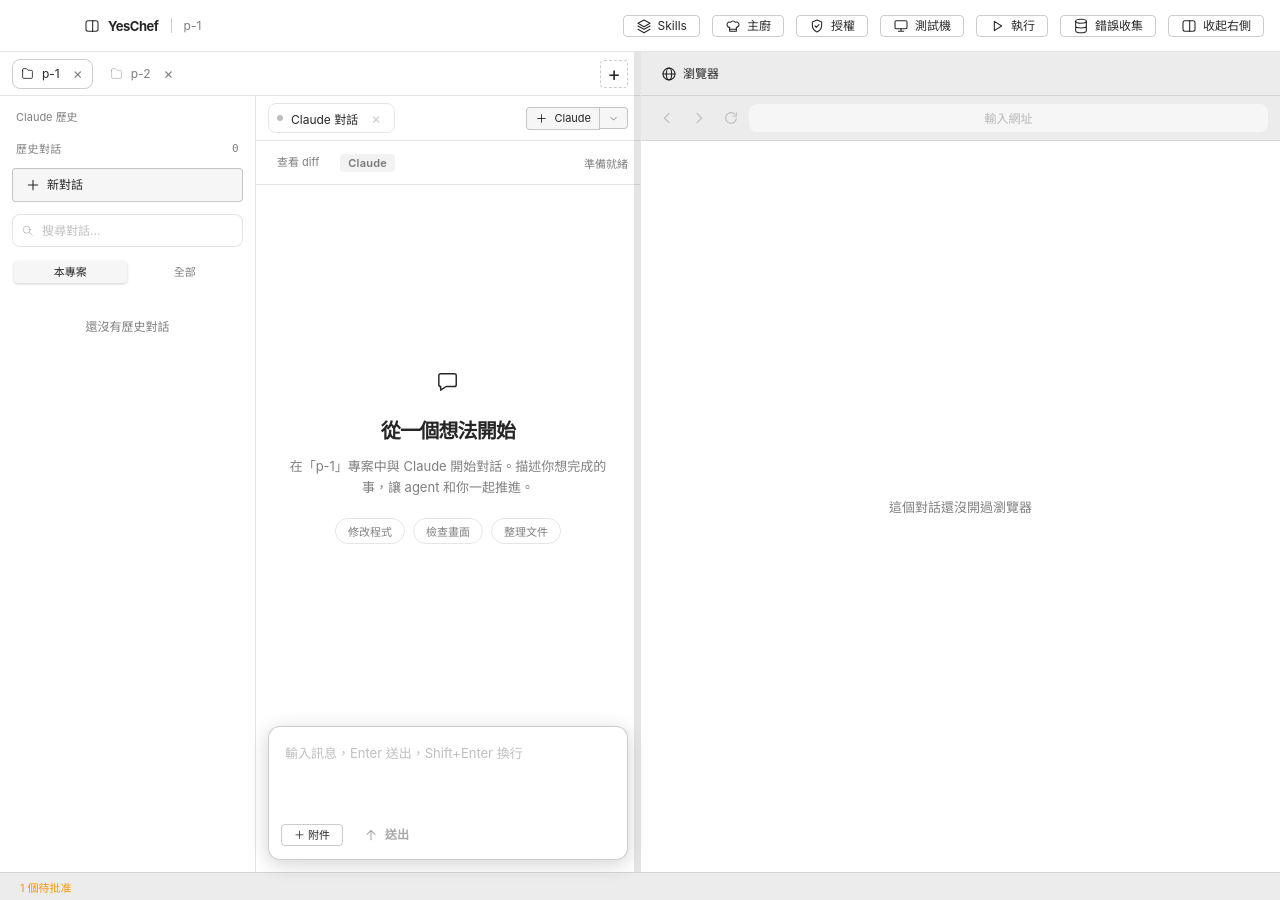
Scenario: App 狀態列 › 點待批准會切到第一個待批准的專案與對話
The image size is (1280, 900).
Click the button "1 個待批准" at [46, 886], box [16, 876, 76, 898]
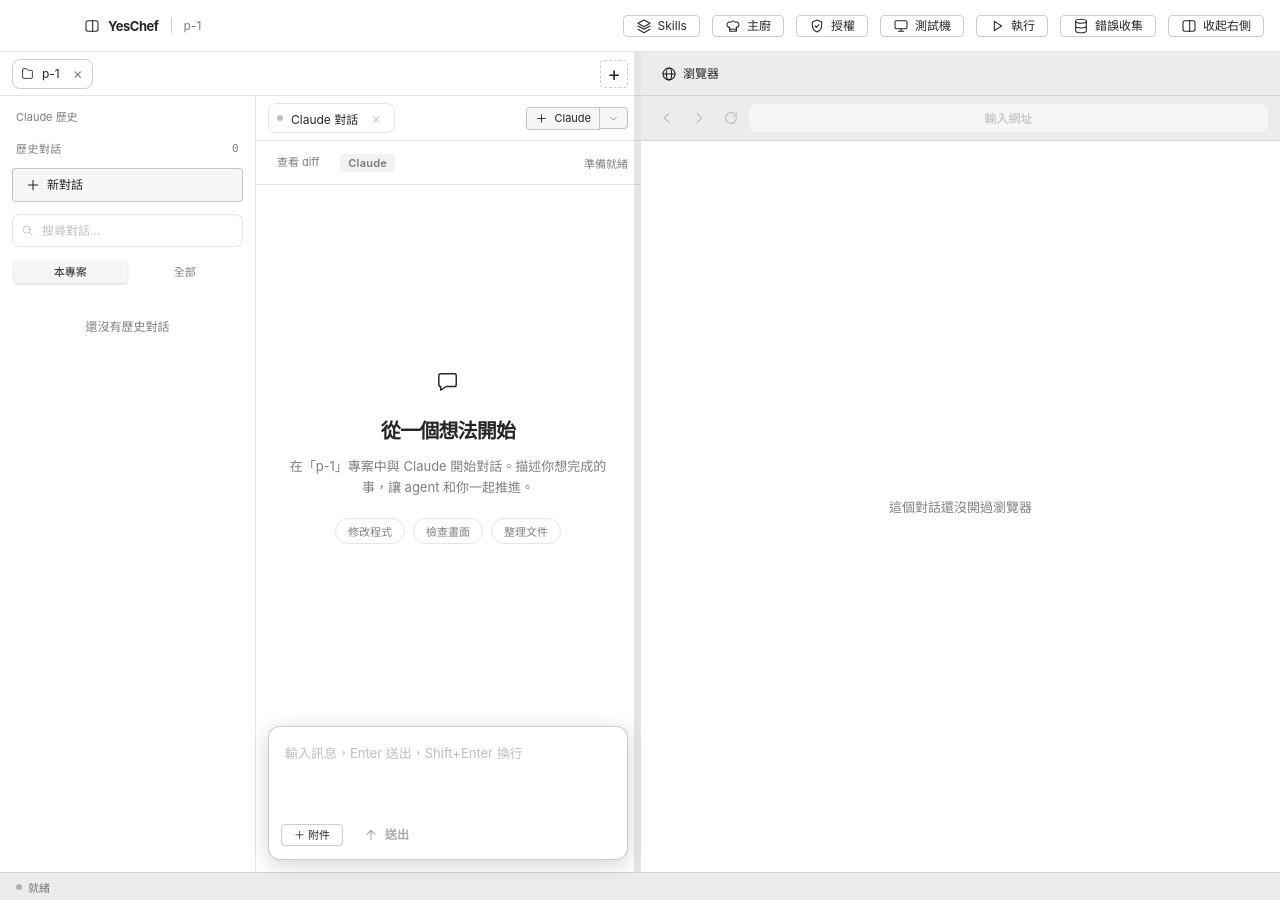
expect the footer with class "status-bar" is shown: met, box [0, 872, 1279, 899]
expect the button "1 個待批准" is gone: met
expect the footer with class "status-bar" reads "就緒": met, box [28, 880, 50, 894]
